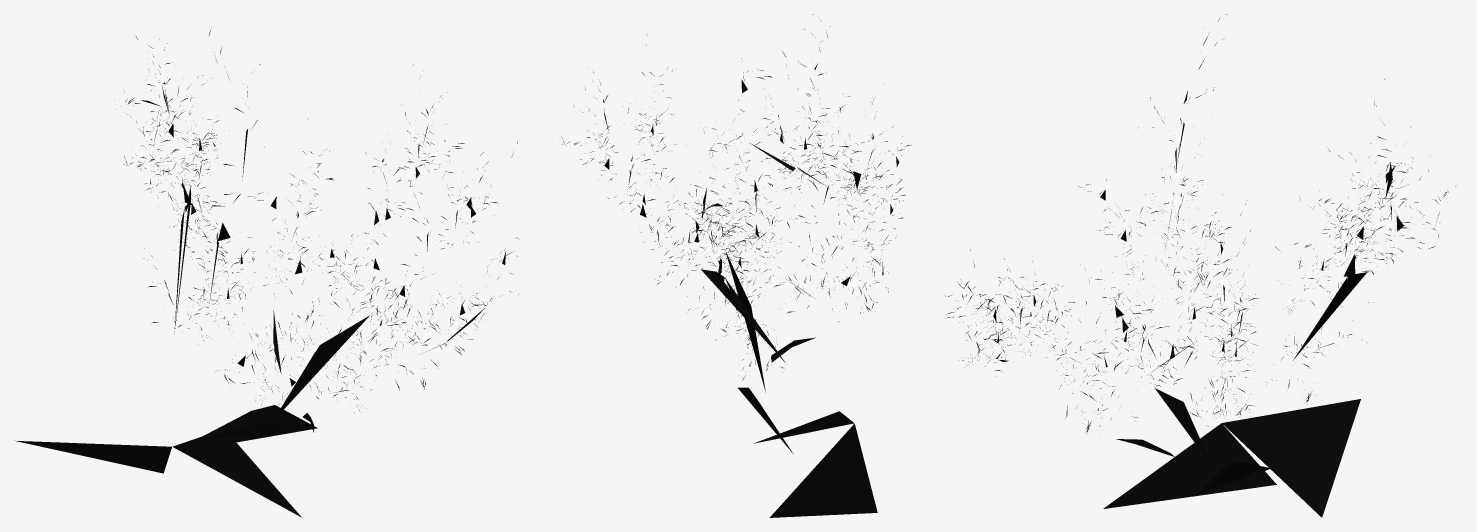
File: Broad_Scrub_B.glb
3 renders of one model, left to right at view 1: azimuth 30°, elevation 25°; view 2: azimuth 150°, elevation 25°; view 3: azimuth 270°, elevation 25°, orthographic. The views are drawn at different scales.
Visible parts, largest first — view 1: tree; view 2: tree; view 3: tree.
Part boxes in pixels (x1=…): tree: x1=14, y1=30, x2=518, y2=517; tree: x1=561, y1=14, x2=911, y2=517; tree: x1=945, y1=14, x2=1456, y2=517.
Bounding box in the file's own units: 2.58 × 3.03 × 2.84.
1 material, 1 textured.
